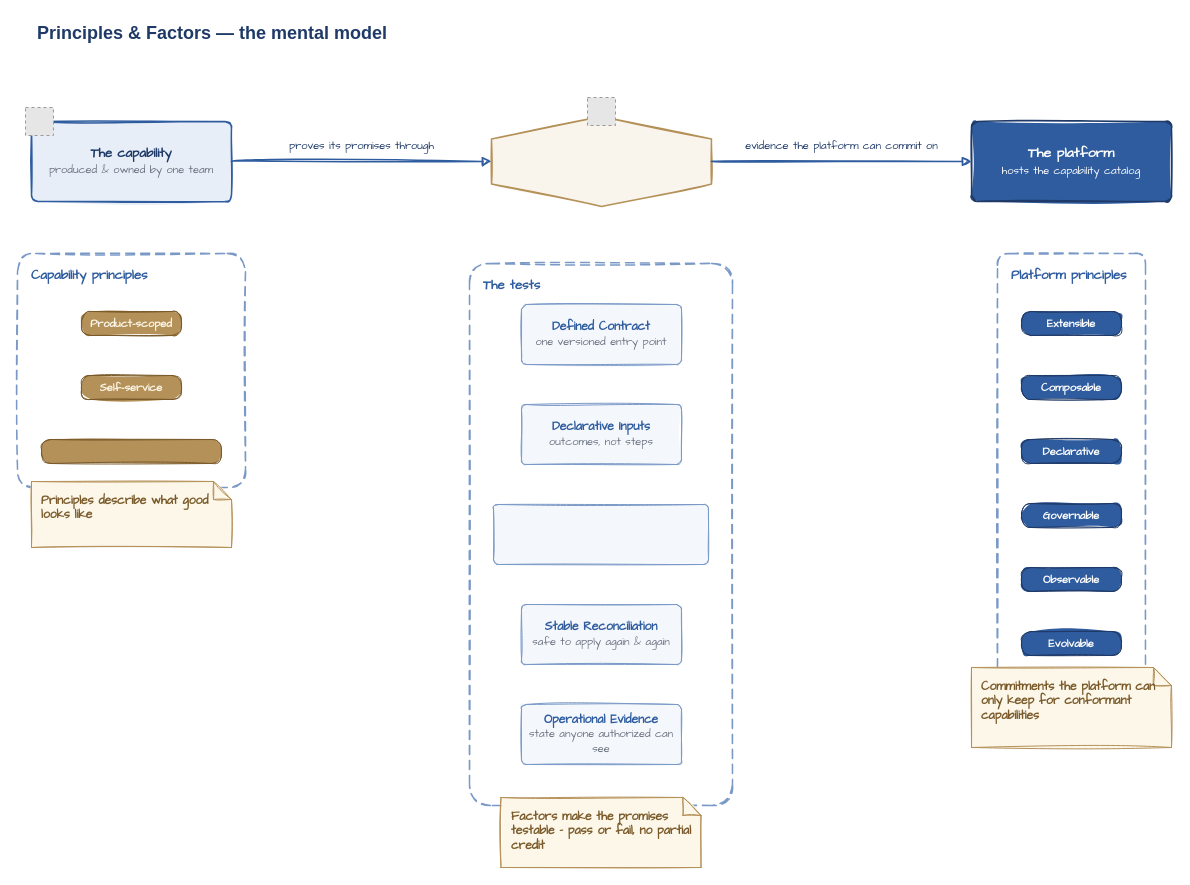
Some shapes in this 1190 by 885 pixel diagram are drawn without their labels. Grey dashed boxes stand in for pictures. The shapes that lost their labels are listed below. From the top down, each one's centre as x and y in pixels, then its label:
At point 601,161: "The five factors binary tests - all five required".
At point 131,451: "Operationally owned".
At point 600,534: "Encapsulated Dependencies owns what it delivers".
